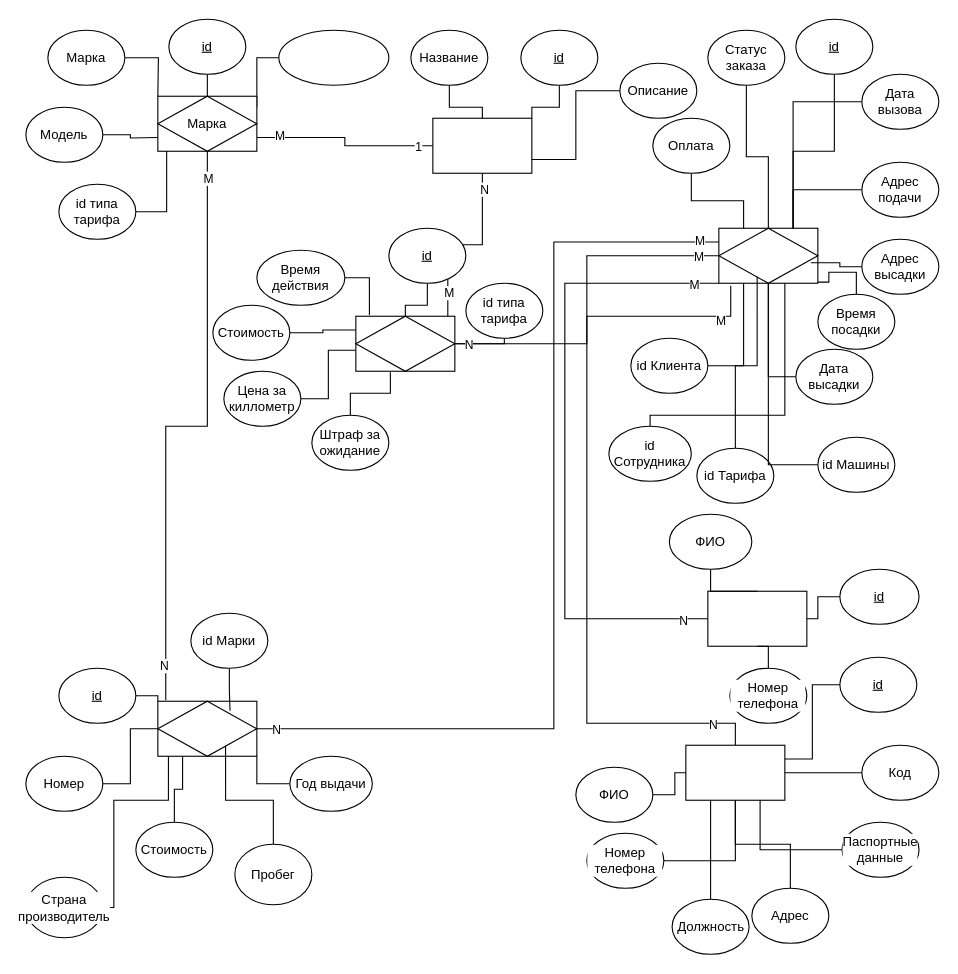
The diagram is 958 pixels wide and 974 high, and some of its shapes have lost their labels. The shapes that lost their labels are listed below. From the top down, each one's centre as x and y in pixels, then its label:
At [333,57]: "Технические характеристики".
At [482,145]: "Тип тарифа".
At [768,255]: "Заказ".
At [405,343]: "Тариф".
At [757,618]: "Клиент".
At [207,728]: "Машина".
At [735,772]: "Cотрудник".
